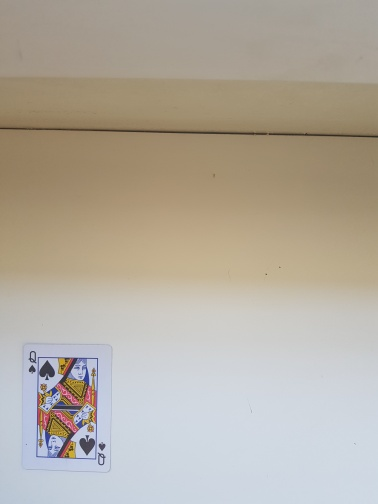queen: (21, 343, 112, 474)
